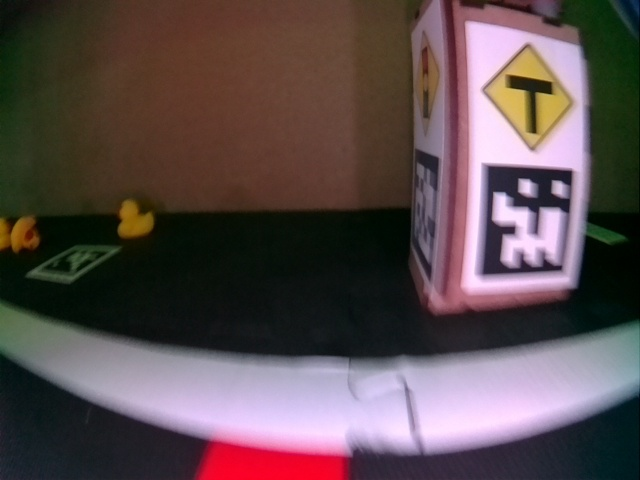Duckie: (117, 199, 148, 237), (15, 216, 37, 251), (2, 221, 10, 248)
Intersection sign: (467, 23, 580, 158)
QR code: (476, 164, 578, 284), (406, 158, 440, 281), (35, 245, 117, 280)
Signal sign: (412, 28, 445, 142)
